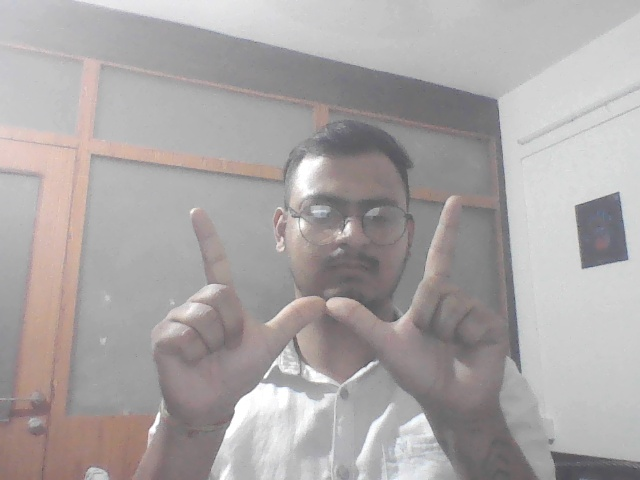Whatever: (143, 187, 518, 425)
